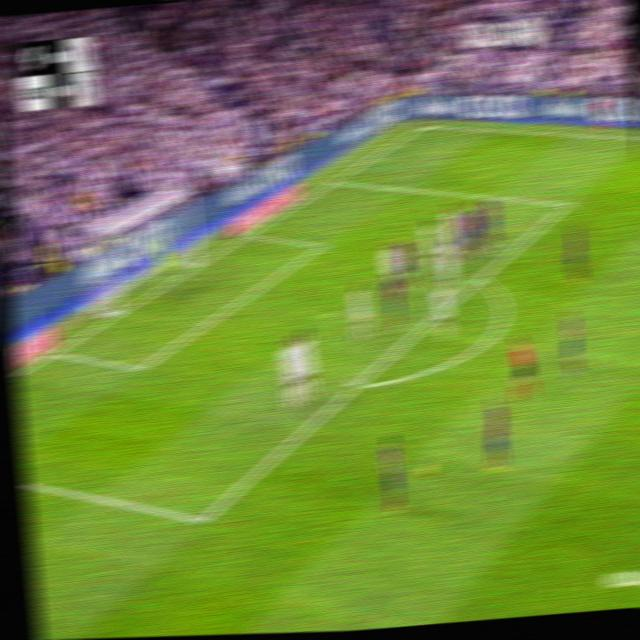bigarea_bottom_inner: (192, 504, 214, 536)
bigarea_top_inner: (557, 194, 574, 213)
bigarea_top_outter: (326, 173, 342, 187)
bottom_arc_area_intersection: (346, 374, 365, 397)
corner: (413, 118, 432, 132)
smallarea_bottom_inner: (132, 357, 150, 380)
smallarea_bottom_outter: (45, 345, 62, 359)
smallarea_top_inner: (313, 237, 328, 253)
top_arc_area_intersection: (472, 268, 489, 286)
